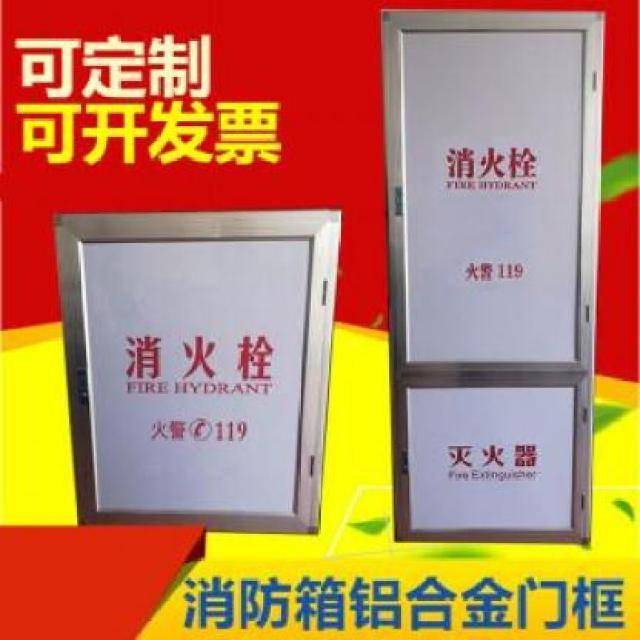firehydrant: (377, 5, 608, 556), (49, 202, 343, 538)
